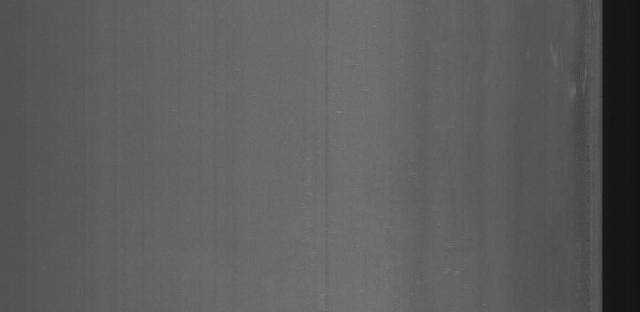silk_spot: (546, 15, 599, 107)
